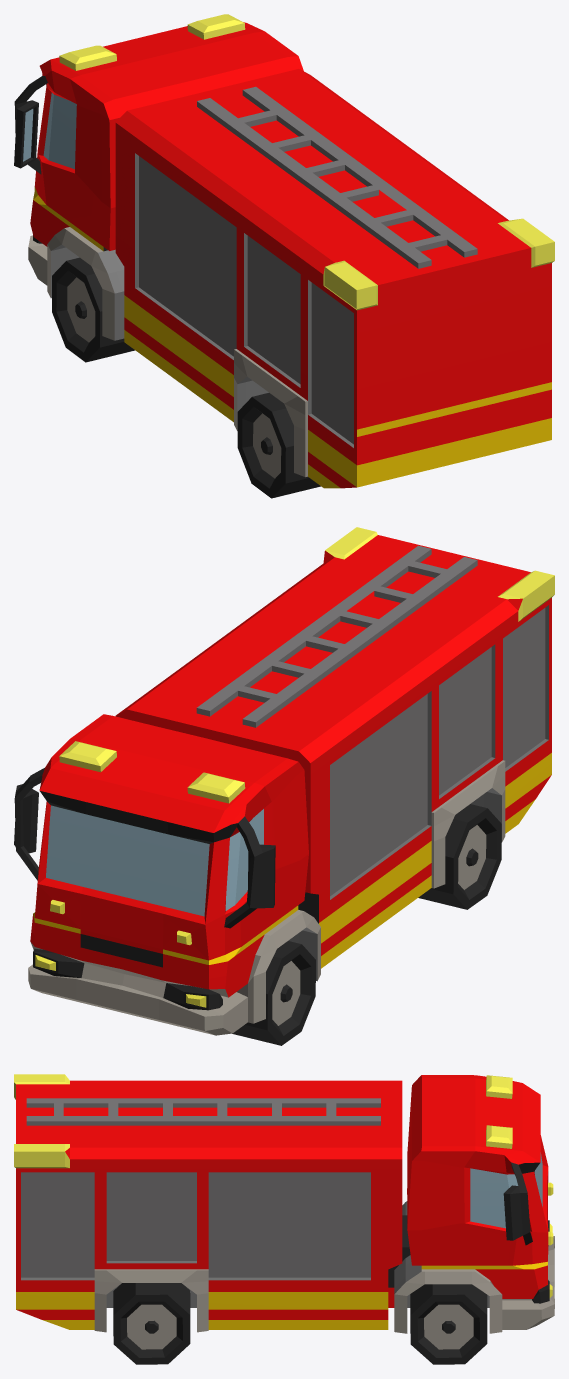
Rendered from FireTruck2.fbx.
3 views of the same model, one above another, from view 1: azimuth 30°, elevation 25°; view 2: azimuth 150°, elevation 25°; view 3: azimuth 270°, elevation 25° (orthographic). The views are drawn at different scales.
Visible parts, largest first — view 1: Shutter; view 2: Shutter; view 3: Shutter.
Part boxes in pixels (x1,y1,x2,y2): Shutter: (14,14,554,498); Shutter: (14,527,554,1045); Shutter: (14,1074,554,1364).
Bounding box in the file's own units: 319 × 318 × 720.
Materials: 1 (1 with a texture image).
